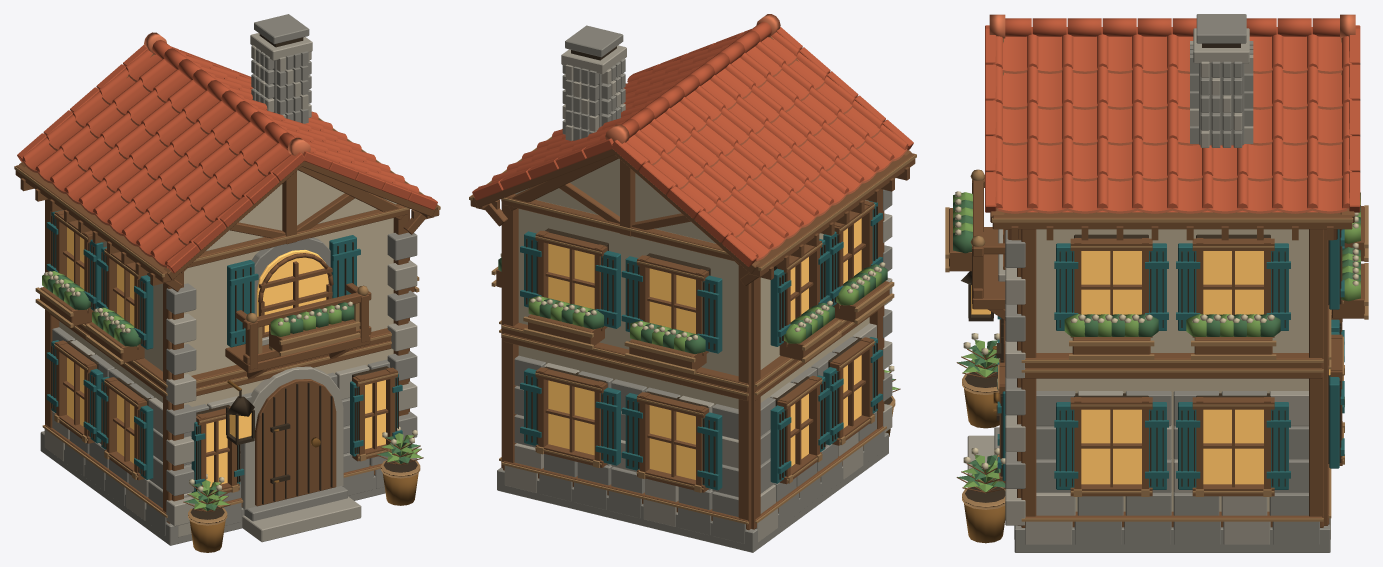
3 renders of one model, left to right at view 1: azimuth 30°, elevation 25°; view 2: azimuth 150°, elevation 25°; view 3: azimuth 270°, elevation 25°, orthographic. The views are drawn at different scales.
Parts seen in each view (by area): view 1: alpine_tower_2_geometry, alpine_tower_2_geometry ceramic; view 2: alpine_tower_2_geometry, alpine_tower_2_geometry ceramic; view 3: alpine_tower_2_geometry, alpine_tower_2_geometry ceramic.
Part boxes in pixels (x1,y1,x2,y2): alpine_tower_2_geometry: [14, 14, 440, 552]; alpine_tower_2_geometry ceramic: [17, 32, 437, 273]; alpine_tower_2_geometry: [469, 25, 916, 552]; alpine_tower_2_geometry ceramic: [472, 14, 913, 266]; alpine_tower_2_geometry: [945, 14, 1368, 552]; alpine_tower_2_geometry ceramic: [985, 14, 1360, 213].
Bounding box in the file's own units: 0.882 × 1.16 × 0.8886.
